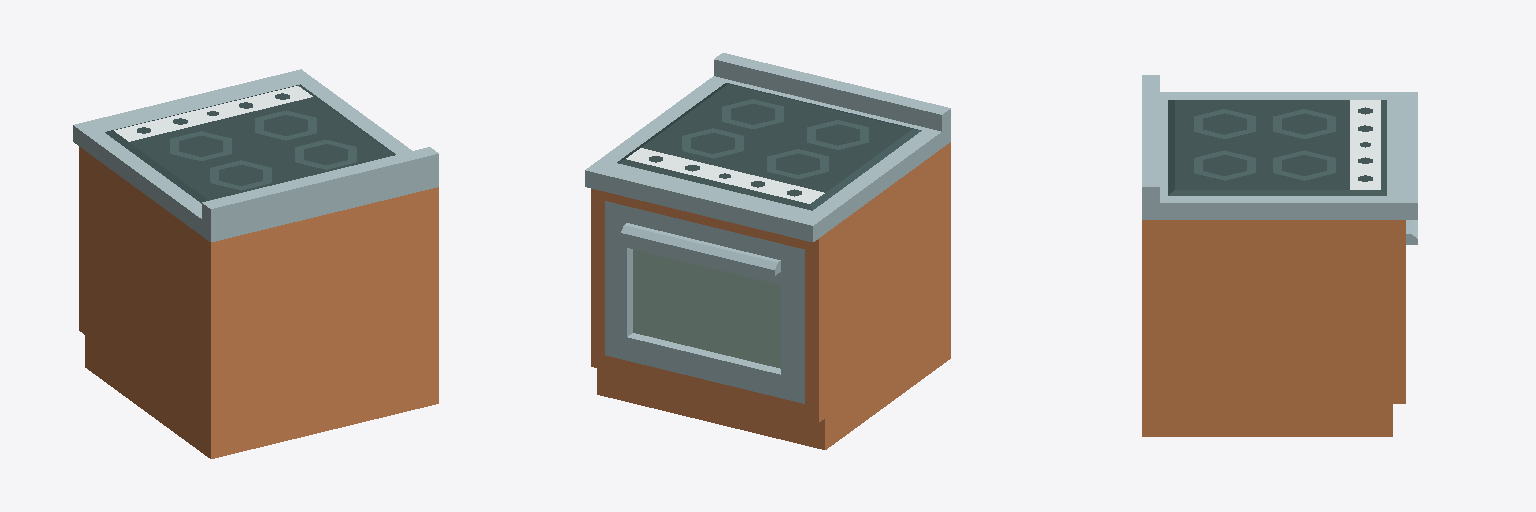
Rendered from kitchenStoveElectric.obj.
The picture shows the model from 3 angles: view 1: azimuth 30°, elevation 25°; view 2: azimuth 150°, elevation 25°; view 3: azimuth 270°, elevation 25°; orthographic projection.
Visible parts, largest first — view 1: kitchenStoveElectric; view 2: kitchenStoveElectric; view 3: kitchenStoveElectric.
Boxes of the visible parts, x1=… form: kitchenStoveElectric: x1=73, y1=69, x2=438, y2=458; kitchenStoveElectric: x1=585, y1=53, x2=950, y2=449; kitchenStoveElectric: x1=1142, y1=75, x2=1417, y2=436.
Size of the model in its own units: 0.43 by 0.45 by 0.45.